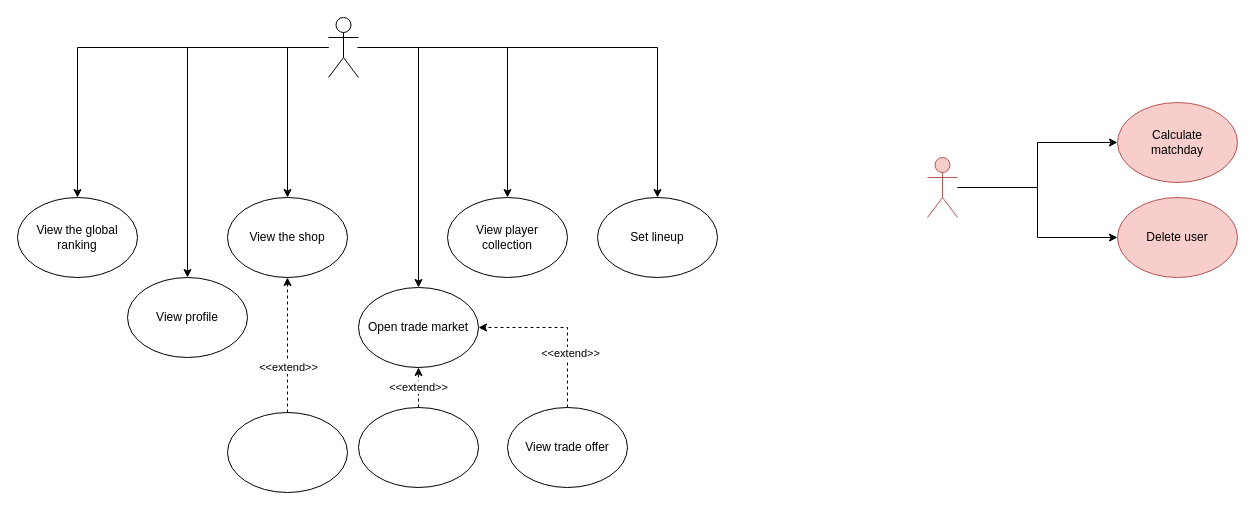
Image size: 1255x510. Some labels were removed from this diagram. The box of each missing label's shape, as (x1, y1, x2, y2) in pixels:
Admin: (926, 156, 958, 218)
Buy pack/player: (226, 412, 348, 492)
Create trade offer: (358, 406, 478, 488)
User: (328, 16, 358, 78)
